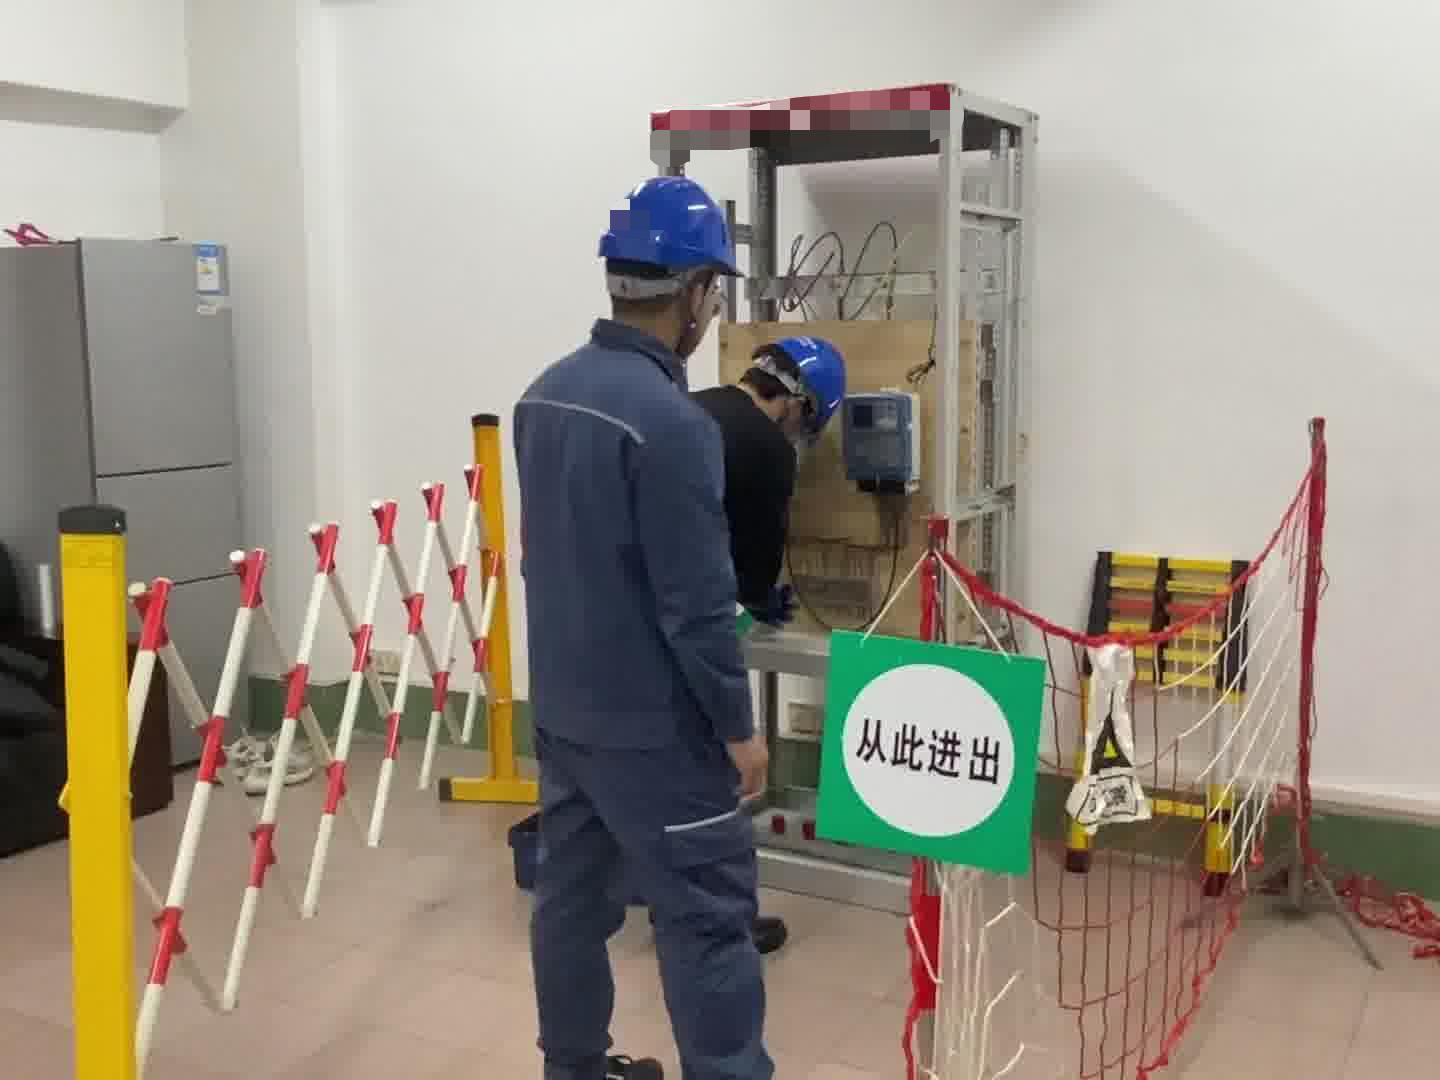halt: (596, 175, 748, 356), (742, 338, 853, 449)
inear: (672, 269, 719, 343), (776, 390, 819, 446)
